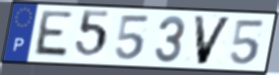3: (152, 14, 186, 64)
5: (73, 9, 113, 63), (228, 18, 267, 66), (113, 14, 152, 61)
E: (30, 8, 75, 60)
V: (192, 14, 235, 67)
